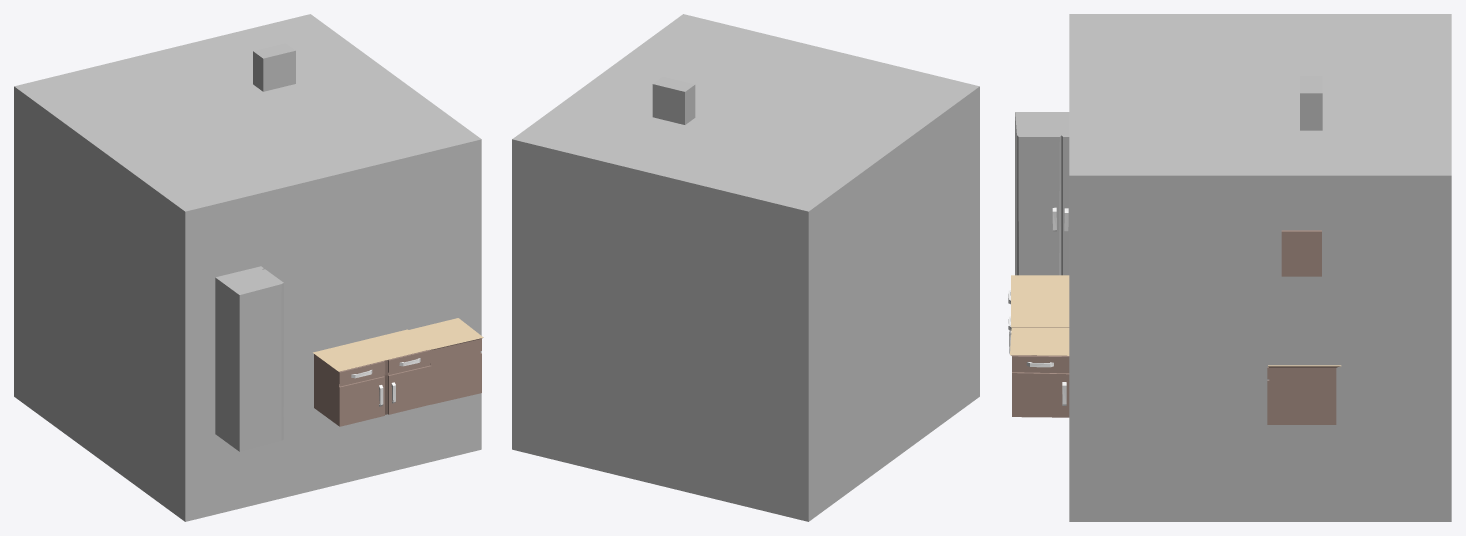
3 views of the same model, side by side, from view 1: azimuth 30°, elevation 25°; view 2: azimuth 150°, elevation 25°; view 3: azimuth 270°, elevation 25° (orthographic). The views are drawn at different scales.
Visible parts, largest first — view 1: Cube, mesh536980032, mesh1348253054, mesh1348253054_001, mesh1000109285; view 2: Cube, mesh1000109285; view 3: Cube, mesh536980032, mesh1348253054_001, mesh1142142446, mesh1348253054, mesh384672652, mesh1000109285.
Boxes of the visible parts, x1,y1,x2,y2 form: Cube: (14,14,481,521); mesh536980032: (215,266,283,451); mesh1348253054: (313,329,433,426); mesh1348253054_001: (409,318,483,404); mesh1000109285: (253,43,295,91); Cube: (512,14,979,521); mesh1000109285: (652,76,695,124); Cube: (1069,14,1451,521); mesh536980032: (1015,112,1069,275); mesh1348253054_001: (1010,327,1069,417); mesh1142142446: (1267,365,1341,424); mesh1348253054: (1011,275,1069,327); mesh384672652: (1281,230,1321,276); mesh1000109285: (1300,75,1322,130).
Bounding box in the file's own units: 2.02 × 2.32 × 2.21.
